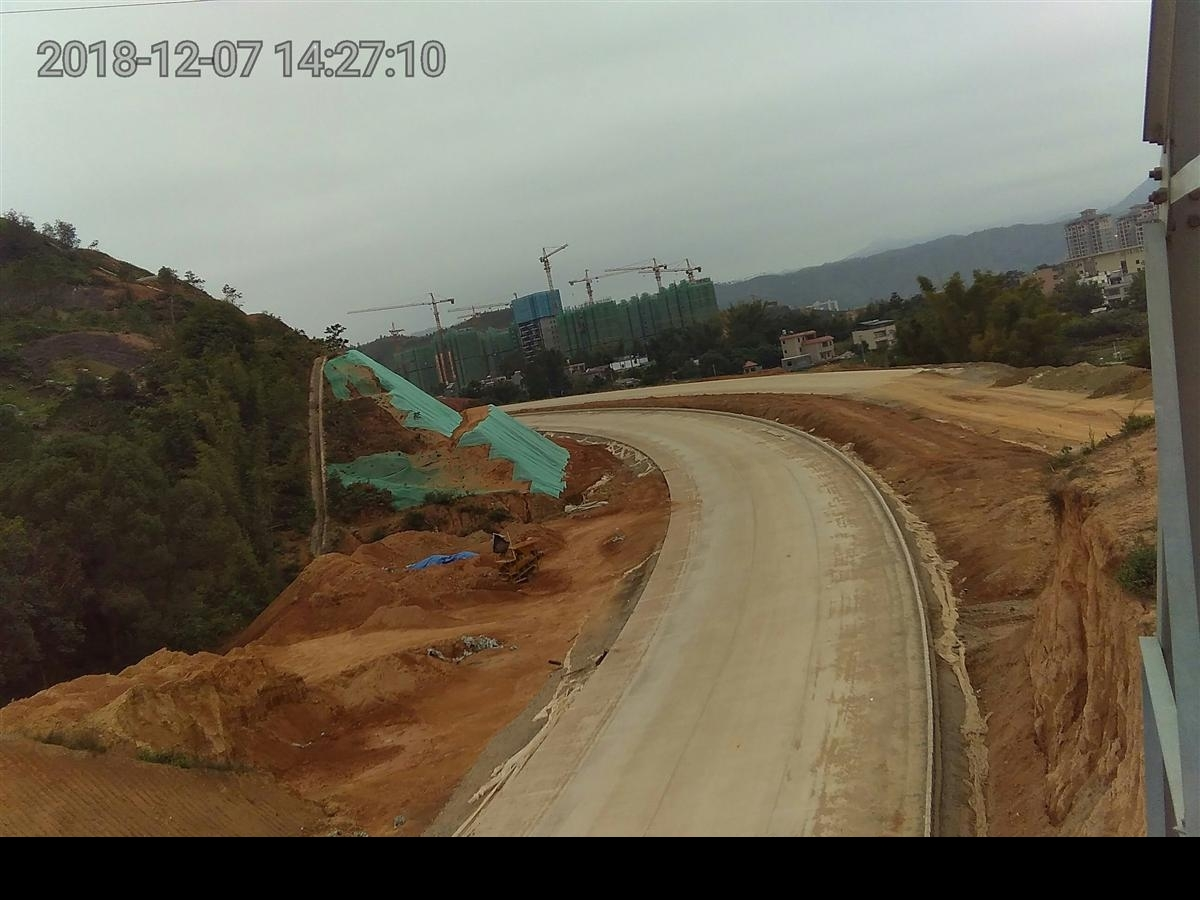TaDiao: (344, 290, 455, 319), (606, 255, 671, 277), (638, 259, 703, 275), (568, 270, 621, 286), (539, 240, 570, 264)
